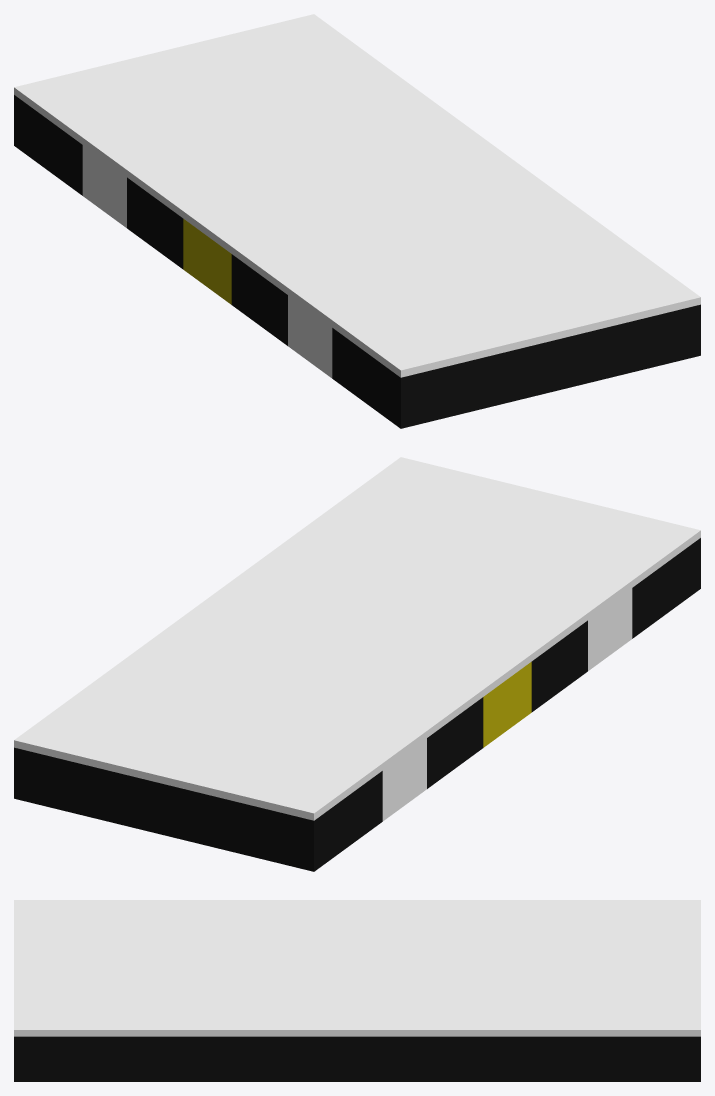
The model's file is evilnoob-5.obj.
3 renders of one model, top to bottom at view 1: azimuth 30°, elevation 25°; view 2: azimuth 150°, elevation 25°; view 3: azimuth 270°, elevation 25°, orthographic. The views are drawn at different scales.
Bounding box in the file's own units: 4.3 × 0.8 × 9.6.
1 material, 1 textured.
